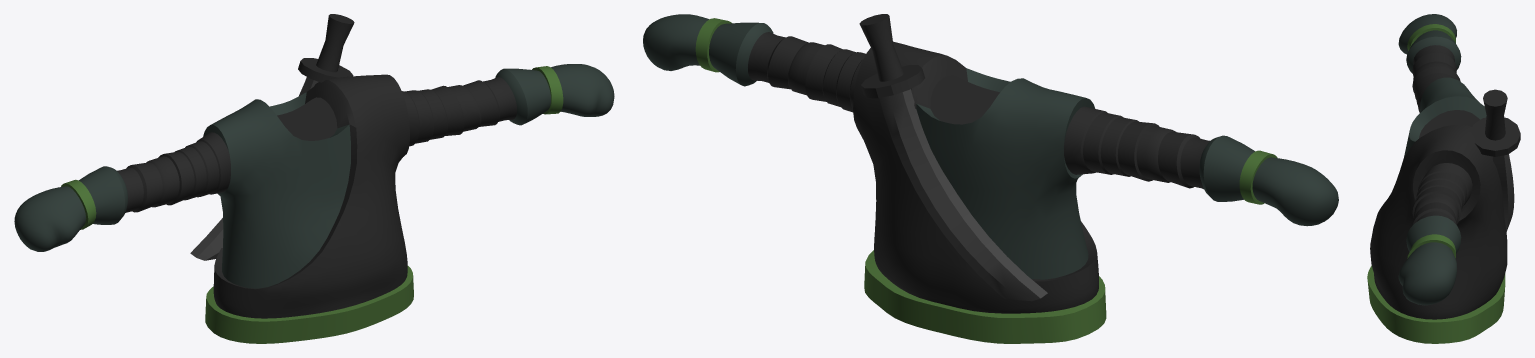
File: 20忍者长袍.fbx
The picture shows the model from 3 angles, left to right: view 1: azimuth 30°, elevation 25°; view 2: azimuth 150°, elevation 25°; view 3: azimuth 270°, elevation 25°; orthographic projection. The views are drawn at different scales.
Visible parts, largest first — view 1: 20忍者长袍, NinjaRobeKatana_0; view 2: 20忍者长袍, NinjaRobeKatana_0; view 3: 20忍者长袍, NinjaRobeKatana_0.
Boxes of the visible parts, x1,y1,x2,y2 form: 20忍者长袍: [14, 64, 614, 343]; NinjaRobeKatana_0: [190, 14, 354, 260]; 20忍者长袍: [643, 14, 1338, 343]; NinjaRobeKatana_0: [859, 14, 1047, 301]; 20忍者长袍: [1367, 14, 1507, 343]; NinjaRobeKatana_0: [1470, 89, 1520, 231].
Size of the model in its own units: 1.98 by 0.819 by 0.4839.
